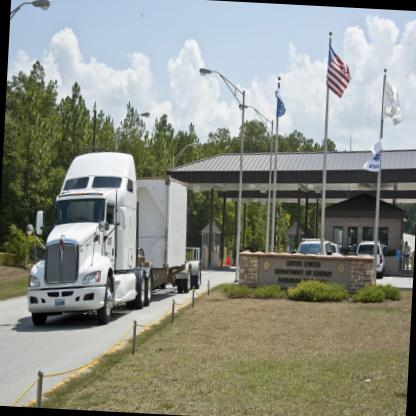Car: (354, 240, 385, 279), (290, 236, 332, 256), (328, 242, 344, 256)
